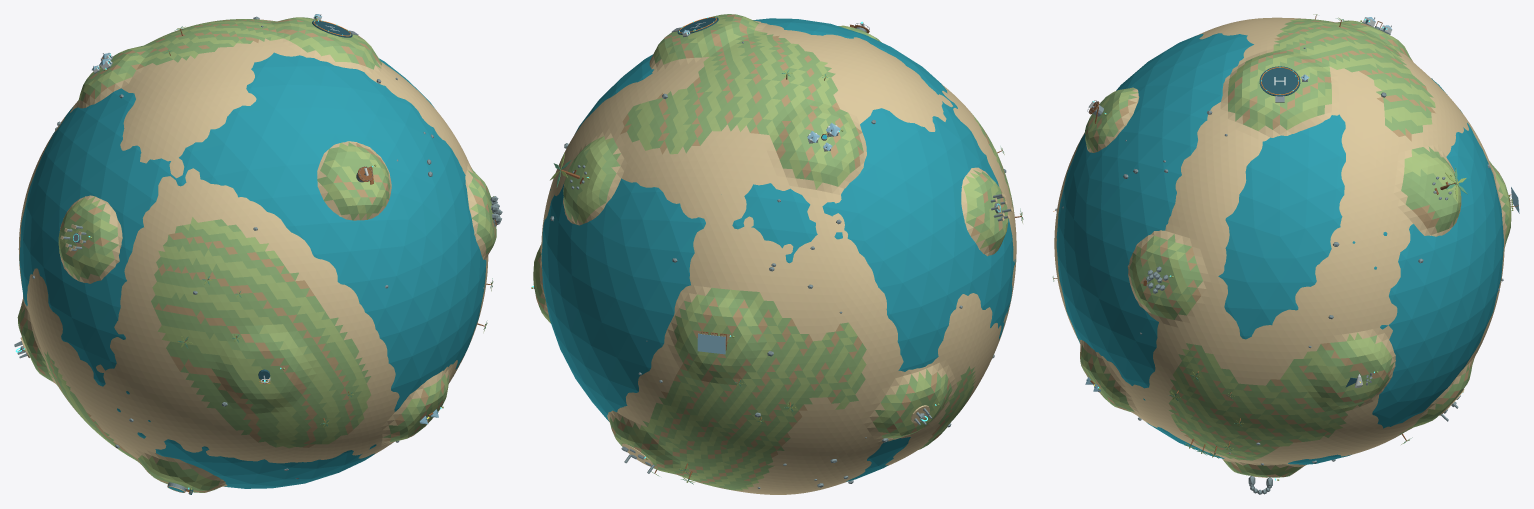
Rendered from uharte_surface.glb.
3 renders of one model, left to right at view 1: azimuth 30°, elevation 25°; view 2: azimuth 150°, elevation 25°; view 3: azimuth 270°, elevation 25°, orthographic. The views are drawn at different scales.
Visible parts, largest first — view 1: water_visual, terrain_chunk_1, terrain_chunk_0, terrain_chunk_5, terrain_chunk_3, terrain_chunk_4, terrain_chunk_2, terrain_chunk_7; view 2: water_visual, terrain_chunk_3, terrain_chunk_2, terrain_chunk_7, terrain_chunk_1, terrain_chunk_6, terrain_chunk_0, terrain_chunk_5, poi_greenhouse_mesh; view 3: water_visual, terrain_chunk_7, terrain_chunk_5, terrain_chunk_4, terrain_chunk_6, terrain_chunk_3, terrain_chunk_1, poi_landing_mesh.
Part boxes in pixels (bbox=[...]): water_visual: bbox=[19, 52, 486, 488]; terrain_chunk_1: bbox=[58, 41, 370, 358]; terrain_chunk_0: bbox=[48, 307, 373, 492]; terrain_chunk_5: bbox=[253, 27, 496, 340]; terrain_chunk_3: bbox=[18, 21, 252, 302]; terrain_chunk_4: bbox=[347, 255, 488, 458]; terrain_chunk_2: bbox=[17, 249, 96, 432]; terrain_chunk_7: bbox=[205, 17, 362, 40]; water_visual: bbox=[541, 18, 1015, 481]; terrain_chunk_3: bbox=[664, 38, 980, 358]; terrain_chunk_2: bbox=[657, 307, 983, 494]; terrain_chunk_7: bbox=[541, 24, 777, 253]; terrain_chunk_1: bbox=[778, 30, 1016, 262]; terrain_chunk_6: bbox=[533, 244, 713, 486]; terrain_chunk_0: bbox=[919, 253, 1016, 449]; terrain_chunk_5: bbox=[667, 14, 867, 37]; poi_greenhouse_mesh: bbox=[697, 331, 727, 354]; water_visual: bbox=[1056, 33, 1503, 464]; terrain_chunk_7: bbox=[1275, 36, 1463, 337]; terrain_chunk_5: bbox=[1055, 37, 1279, 337]; terrain_chunk_4: bbox=[1055, 243, 1284, 477]; terrain_chunk_6: bbox=[1275, 254, 1503, 476]; terrain_chunk_3: bbox=[1276, 17, 1511, 238]; terrain_chunk_1: bbox=[1054, 17, 1283, 241]; poi_landing_mesh: bbox=[1259, 66, 1309, 102].
Size of the model in its own units: 200 by 204 by 206.
